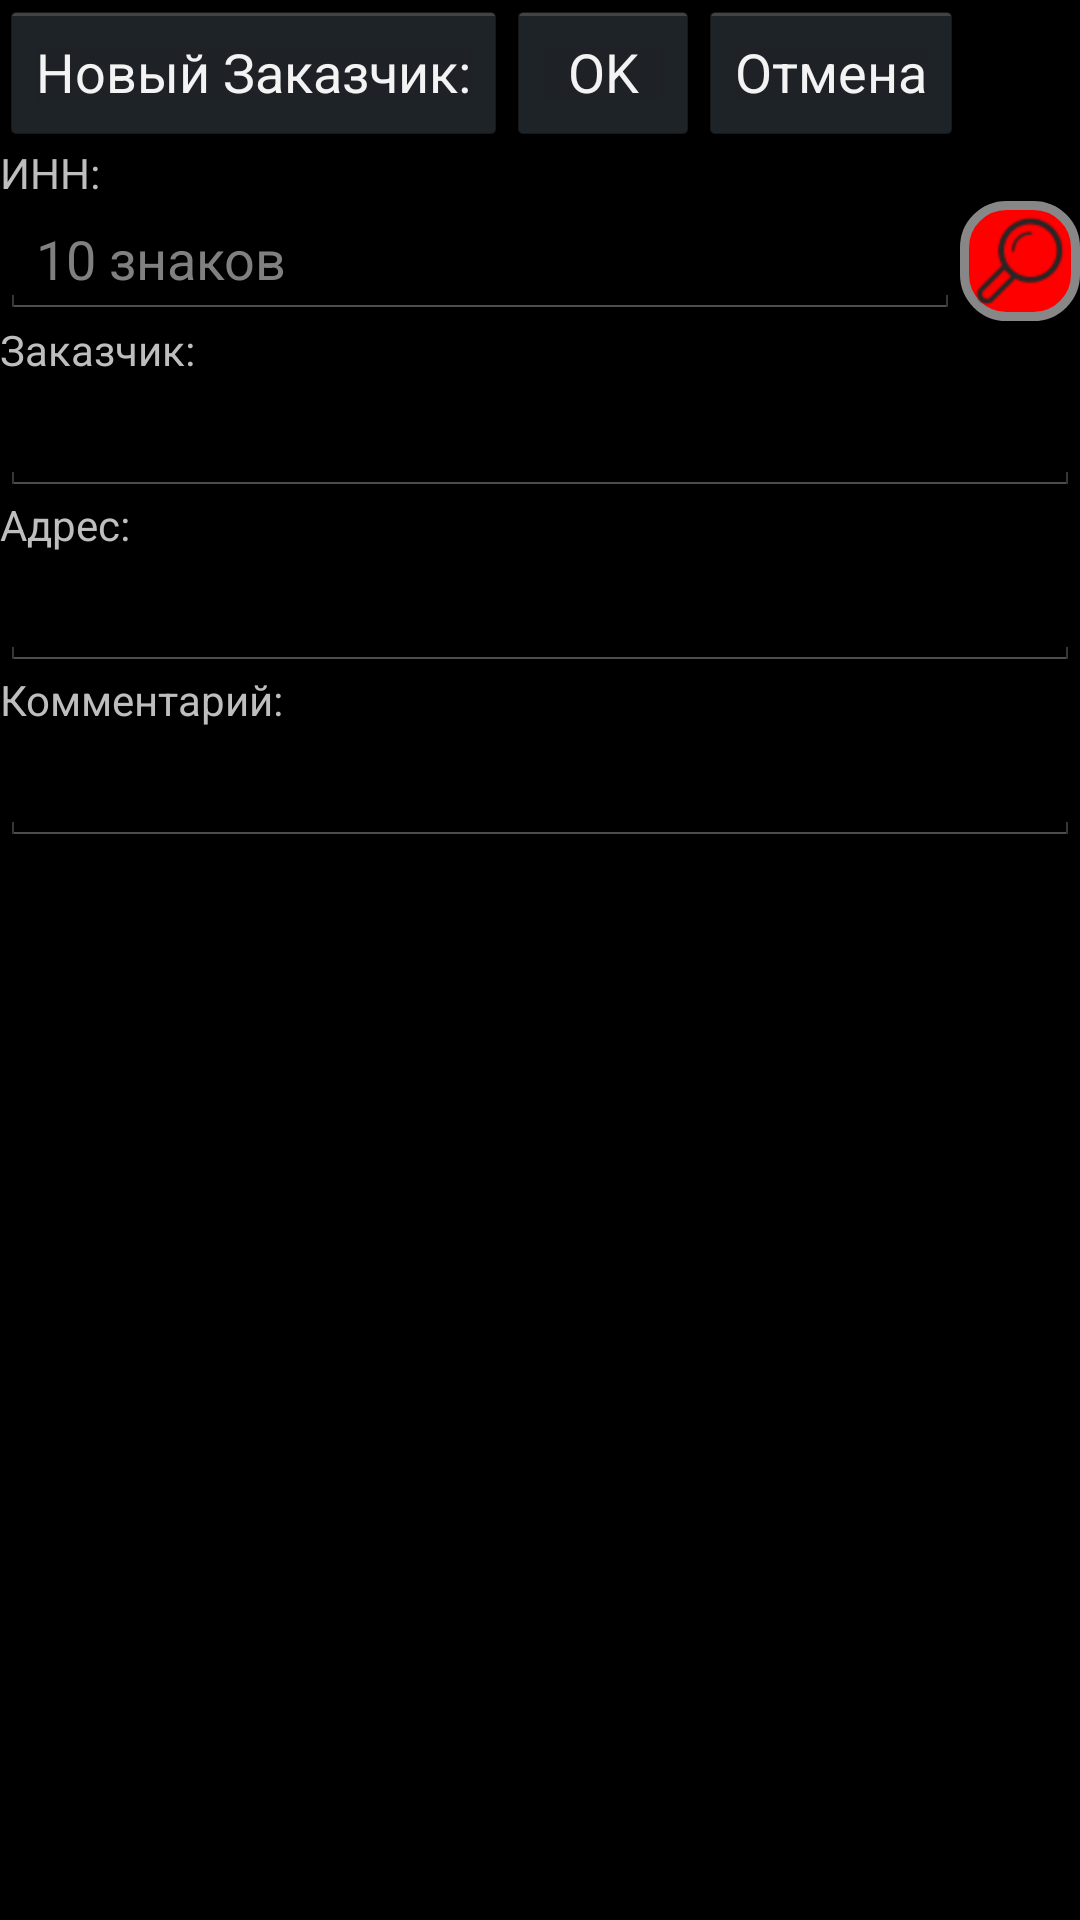

Icon bounding boxes for this 1080px×1920px phone screenshot, format {"x1": x1, "y1": y1, "x2": x2, "y2": y2}:
supplier search: {"x1": 960, "y1": 201, "x2": 1080, "y2": 321}
